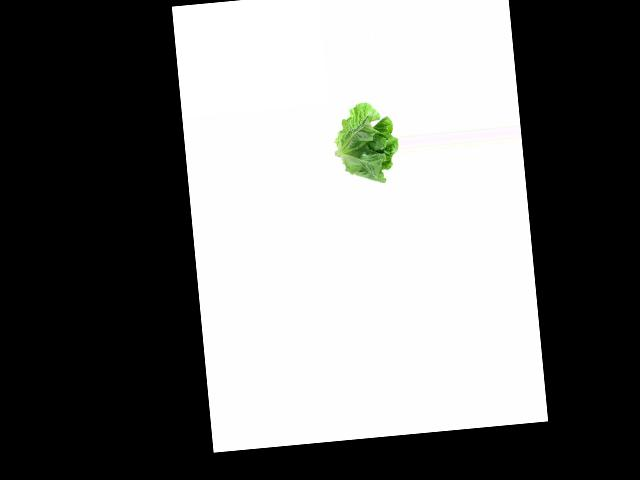lettuce: (333, 100, 401, 188)
